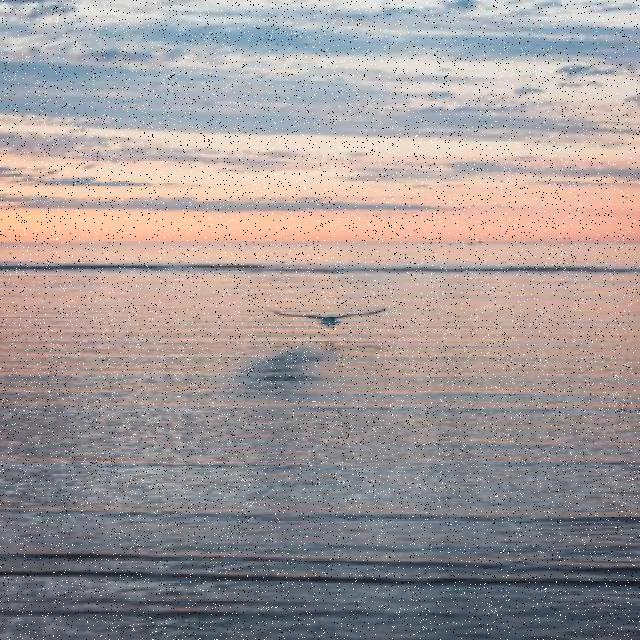bird: (273, 308, 389, 330)
